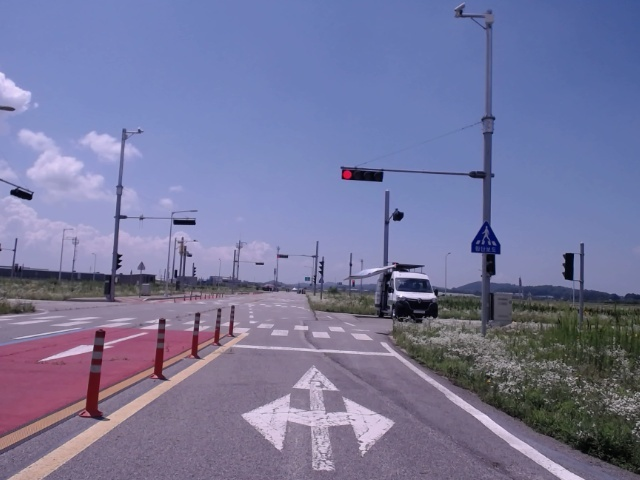red_4: (342, 169, 383, 181)
